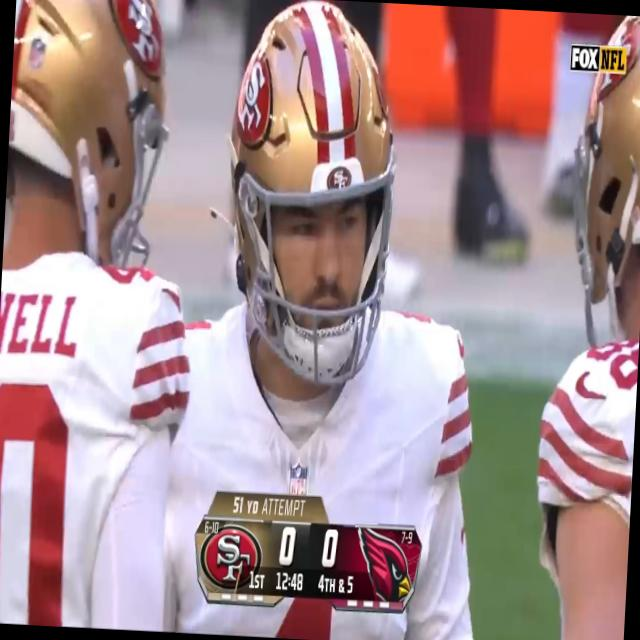Player: (145, 2, 510, 640), (0, 0, 184, 631), (522, 15, 640, 640)
